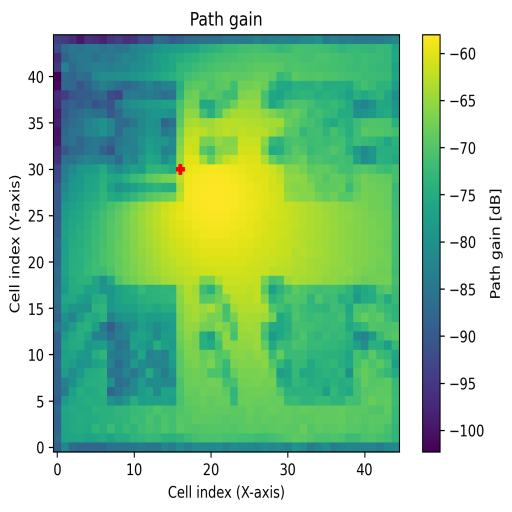Concrete: (284, 82, 354, 202)
Glass: (108, 80, 176, 202)
Metal: (283, 286, 354, 405)
Wood: (108, 285, 176, 405)
